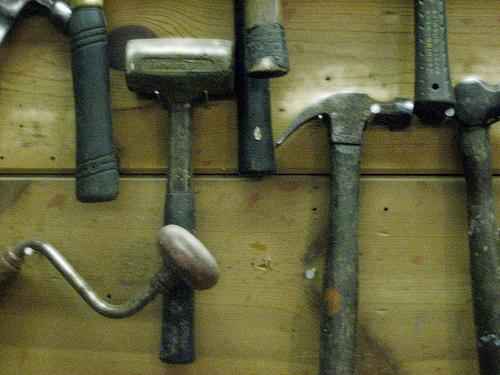hammer: (273, 87, 414, 374), (435, 76, 499, 374)
